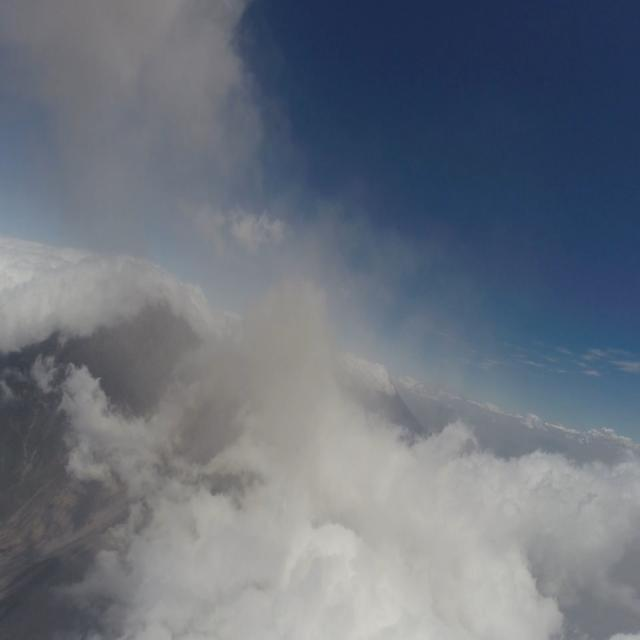Plume: (0, 0, 252, 240), (234, 261, 350, 462)
